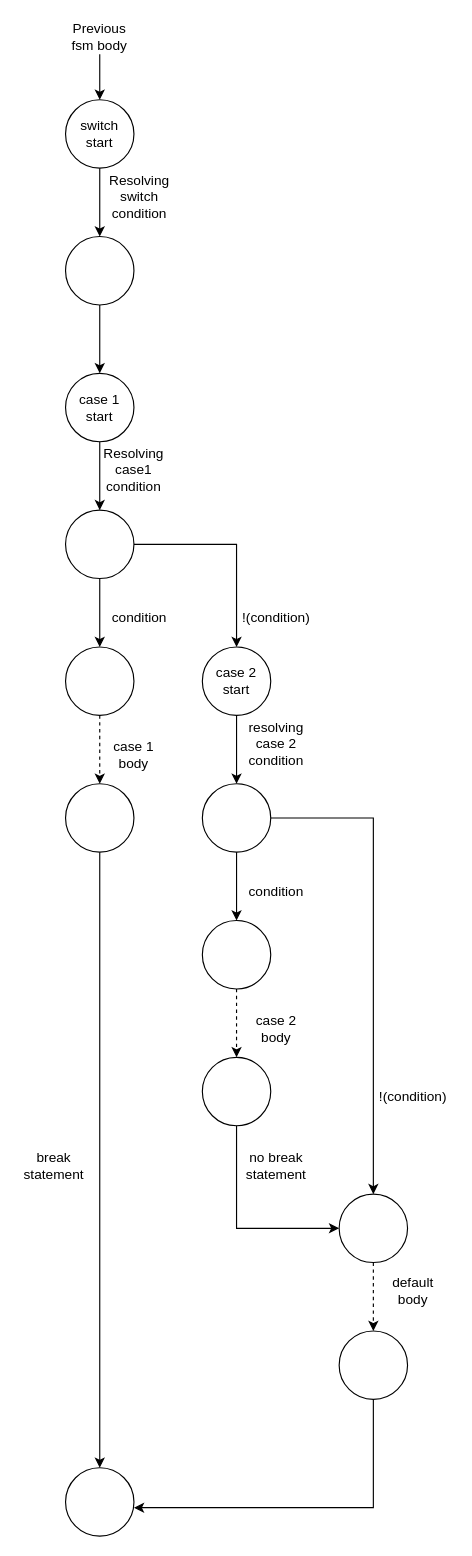
This 472x1556 diagram has some shape labels left out. Here are the shapes that lost their labels. From the top down, the centre of each, then its label:
At (x=373, y=1228): "default".
At (x=99, y=1501): "switch end".
